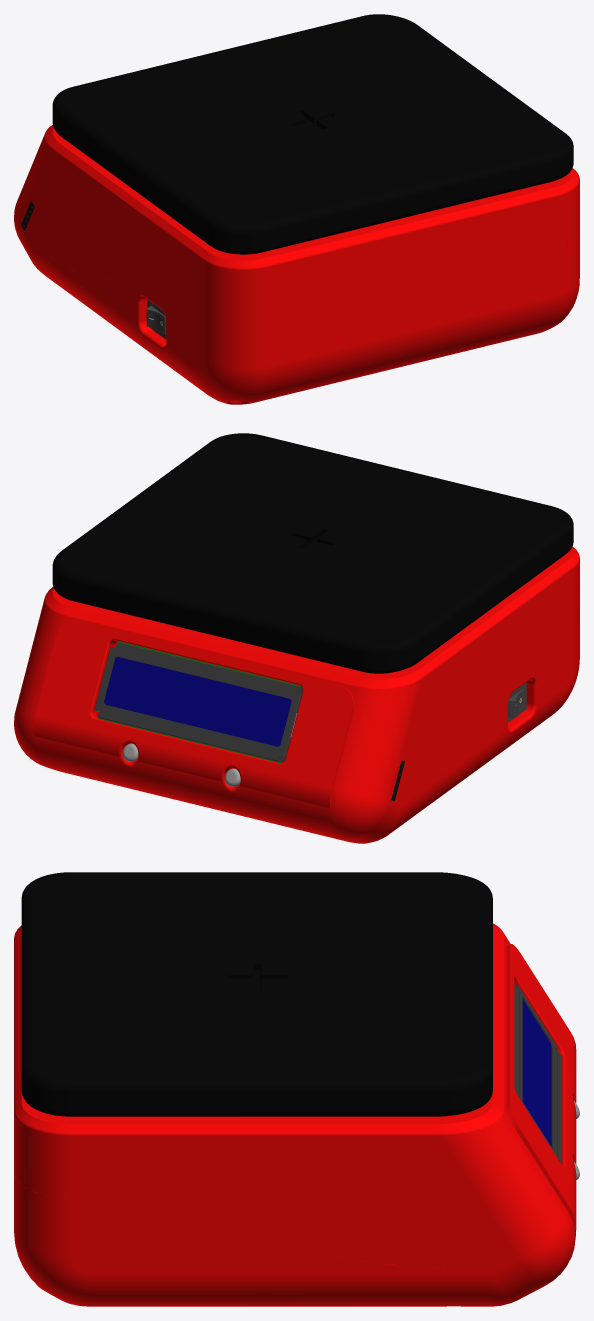
The model's file is digitalscale.glb.
3 renders of one model, top to bottom at view 1: azimuth 30°, elevation 25°; view 2: azimuth 150°, elevation 25°; view 3: azimuth 270°, elevation 25°, orthographic. The views are drawn at different scales.
Visible parts, largest first — view 1: eBom-FreeParts.step-1, FINAL SCALE_1.step-1/FINAL Top Panel.step-1, FINAL SCALE_1.step-1/FINAL Bottom Panel.step-1, FINAL SCALE_1.step-1/SW-R3-1A-A-1-0.step-1; view 2: eBom-FreeParts.step-1, FINAL SCALE_1.step-1/FINAL Top Panel.step-1, FINAL SCALE_1.step-1/FINAL Bottom Panel.step-1, FINAL SCALE_1.step-1/PCB.step-1/ScaleInterface_1v3.step-1/El, FINAL SCALE_1.step-1/SW-R3-1A-A-1-0.step-1; view 3: eBom-FreeParts.step-1, FINAL SCALE_1.step-1/FINAL Top Panel.step-1, FINAL SCALE_1.step-1/FINAL Bottom Panel.step-1, FINAL SCALE_1.step-1/PCB.step-1/ScaleInterface_1v3.step-1/El.
Part boxes in pixels (bbox=[...]): eBom-FreeParts.step-1: bbox=[52, 14, 573, 254]; FINAL SCALE_1.step-1/FINAL Top Panel.step-1: bbox=[14, 124, 579, 320]; FINAL SCALE_1.step-1/FINAL Bottom Panel.step-1: bbox=[15, 230, 579, 404]; FINAL SCALE_1.step-1/SW-R3-1A-A-1-0.step-1: bbox=[146, 299, 166, 339]; eBom-FreeParts.step-1: bbox=[52, 433, 573, 673]; FINAL SCALE_1.step-1/FINAL Top Panel.step-1: bbox=[14, 546, 579, 821]; FINAL SCALE_1.step-1/FINAL Bottom Panel.step-1: bbox=[16, 610, 579, 843]; FINAL SCALE_1.step-1/PCB.step-1/ScaleInterface_1v3.step-1/El: bbox=[94, 641, 302, 762]; FINAL SCALE_1.step-1/SW-R3-1A-A-1-0.step-1: bbox=[507, 682, 526, 722]; eBom-FreeParts.step-1: bbox=[21, 872, 492, 1116]; FINAL SCALE_1.step-1/FINAL Top Panel.step-1: bbox=[14, 923, 576, 1269]; FINAL SCALE_1.step-1/FINAL Bottom Panel.step-1: bbox=[14, 1174, 573, 1306]; FINAL SCALE_1.step-1/PCB.step-1/ScaleInterface_1v3.step-1/El: bbox=[514, 982, 561, 1163].
Size of the model in its own units: 0.1381 by 0.0705 by 0.1494.
